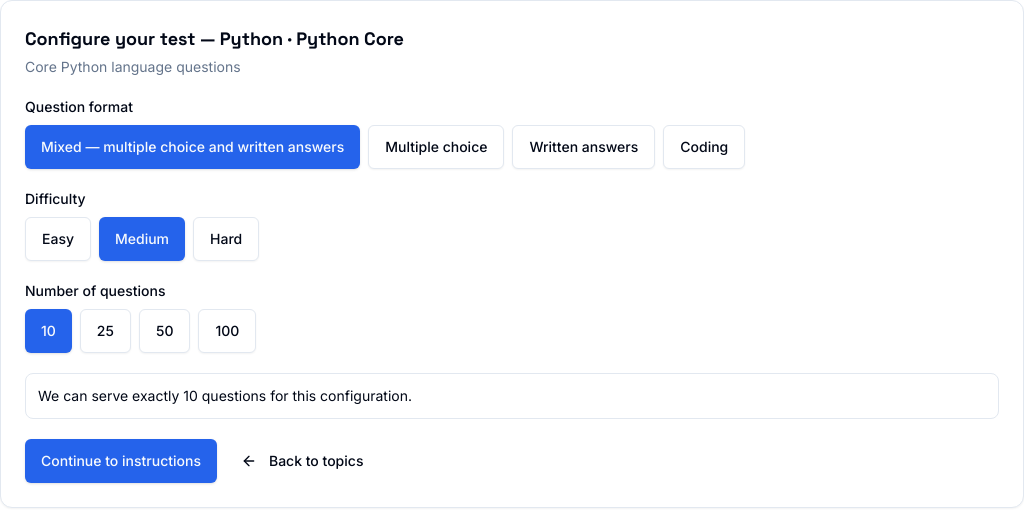
Addendum — GAP-6 / GAP-2 › GAP-6: catalogue says available, but the CHOSEN configuration has servable 0 — cannot start it
expect the button "Continue to instructions" is shown: met, box left=25, top=439, right=217, bottom=483
…but choosing Coding (servable 0 for this config) removes the start path.
Click the button "Coding" at (704, 147), box left=663, top=125, right=745, bottom=169
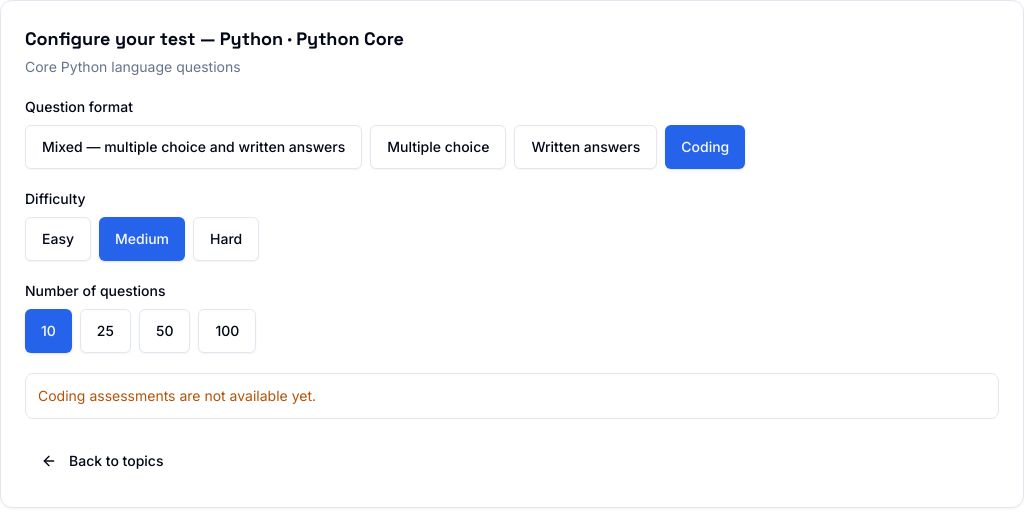
expect the text "Coding assessments are not available yet." is shown: met, box left=38, top=387, right=316, bottom=404
expect the button "Continue to instructions" is gone: met
